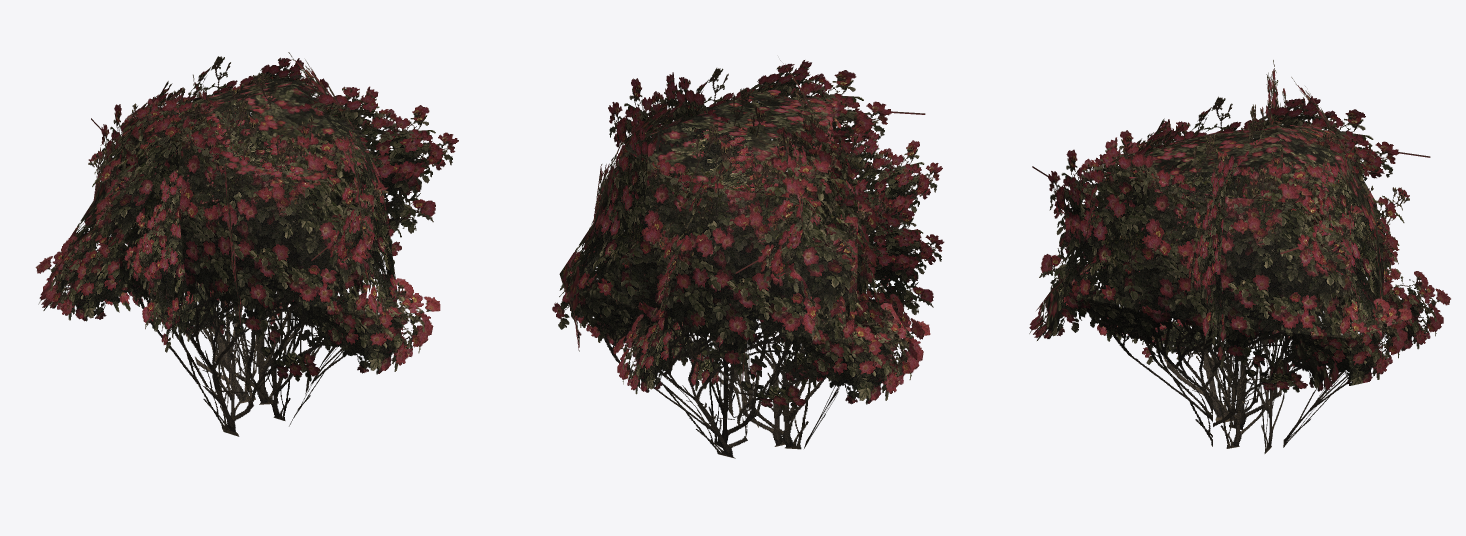
The model's file is fern_2.glb.
The picture shows the model from 3 angles, left to right: view 1: azimuth 30°, elevation 25°; view 2: azimuth 150°, elevation 25°; view 3: azimuth 270°, elevation 25°; orthographic projection. The views are drawn at different scales.
Visible parts, largest first — view 1: fern_2; view 2: fern_2; view 3: fern_2.
Part boxes in pixels (bbox=[...]): fern_2: bbox=[35, 52, 458, 436]; fern_2: bbox=[552, 60, 944, 458]; fern_2: bbox=[1029, 60, 1450, 453].
Size of the model in its own units: 1.38 by 1.22 by 1.44.
1 material, 1 textured.
